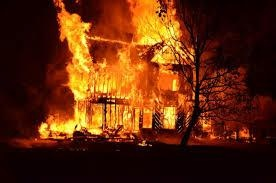fire: (48, 0, 218, 149)
